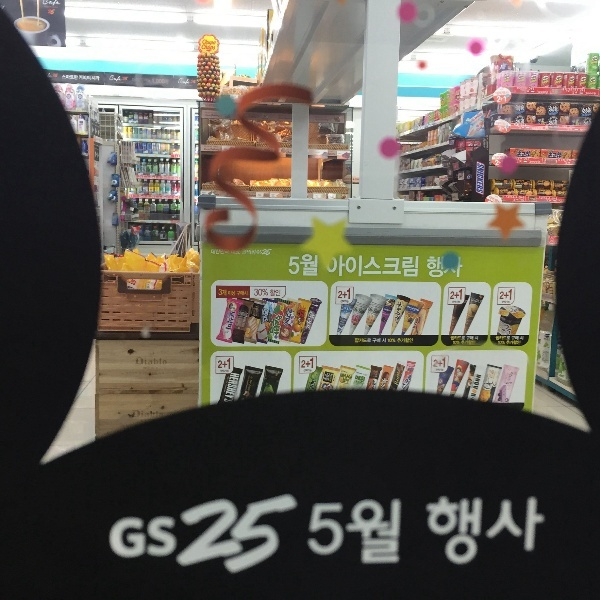text: (177, 491, 192, 583), (193, 491, 208, 583), (209, 491, 224, 583), (225, 491, 240, 583), (241, 491, 256, 583), (257, 491, 272, 583), (273, 491, 288, 583), (289, 491, 302, 583), (321, 493, 336, 571), (337, 493, 352, 571), (353, 493, 368, 571), (369, 493, 384, 571), (385, 493, 400, 571), (433, 492, 448, 568), (449, 492, 464, 568), (465, 492, 480, 568), (481, 492, 496, 568), (497, 492, 512, 568), (513, 492, 528, 568), (529, 492, 544, 568), (307, 493, 320, 571), (113, 513, 128, 565), (129, 513, 144, 565), (145, 513, 160, 565), (161, 513, 176, 565), (425, 492, 432, 568), (289, 252, 304, 278), (105, 513, 112, 565), (305, 252, 319, 278), (337, 255, 352, 279), (353, 255, 368, 279), (369, 255, 384, 279), (385, 255, 400, 279), (401, 255, 416, 279), (449, 254, 463, 278), (230, 372, 240, 404), (433, 255, 445, 279), (276, 314, 288, 337), (325, 255, 336, 279), (309, 311, 320, 332), (545, 492, 548, 568), (433, 356, 448, 368), (231, 310, 240, 330), (262, 307, 272, 323), (401, 493, 403, 571), (500, 288, 512, 301), (451, 288, 464, 300), (497, 95, 512, 104), (257, 288, 269, 298), (427, 255, 432, 279), (305, 356, 314, 369), (289, 306, 294, 328), (225, 248, 240, 255), (242, 249, 256, 256), (497, 335, 511, 342), (228, 289, 240, 297), (444, 254, 448, 278), (477, 163, 480, 194), (481, 163, 484, 194), (211, 248, 224, 255), (401, 337, 414, 344), (257, 249, 272, 255), (517, 150, 528, 158), (218, 357, 224, 370), (225, 357, 231, 370), (451, 335, 464, 341), (467, 335, 480, 341), (263, 249, 272, 257), (417, 255, 420, 279), (498, 340, 512, 345), (373, 338, 384, 344), (453, 340, 464, 346), (465, 340, 476, 346), (513, 335, 524, 341), (355, 338, 368, 343), (273, 289, 281, 297), (241, 289, 248, 298), (388, 338, 400, 343), (216, 248, 224, 255), (209, 39, 217, 46), (218, 288, 224, 297), (177, 513, 178, 565), (201, 44, 208, 51), (209, 44, 216, 51), (513, 340, 521, 346), (202, 39, 208, 46), (301, 356, 304, 369), (236, 289, 240, 298), (506, 340, 512, 346), (287, 252, 288, 278), (397, 337, 400, 344), (254, 288, 256, 298), (225, 288, 227, 297), (461, 340, 464, 346), (270, 289, 272, 297), (529, 150, 531, 158), (369, 338, 372, 343), (385, 338, 387, 344), (241, 248, 242, 255), (465, 335, 466, 341)
